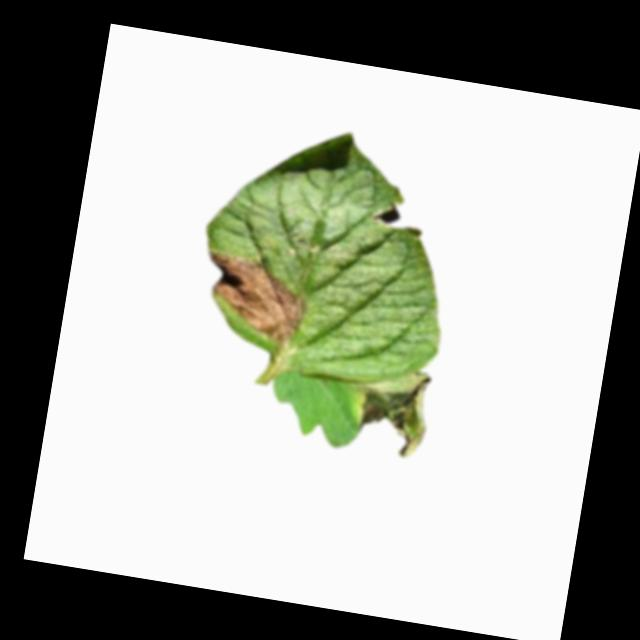Late_blight: (191, 248, 312, 353), (349, 361, 436, 459)
